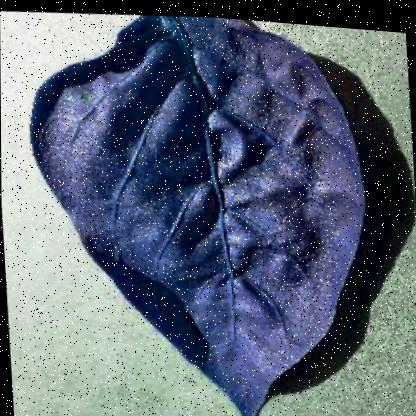Healthy: (17, 1, 381, 415)
